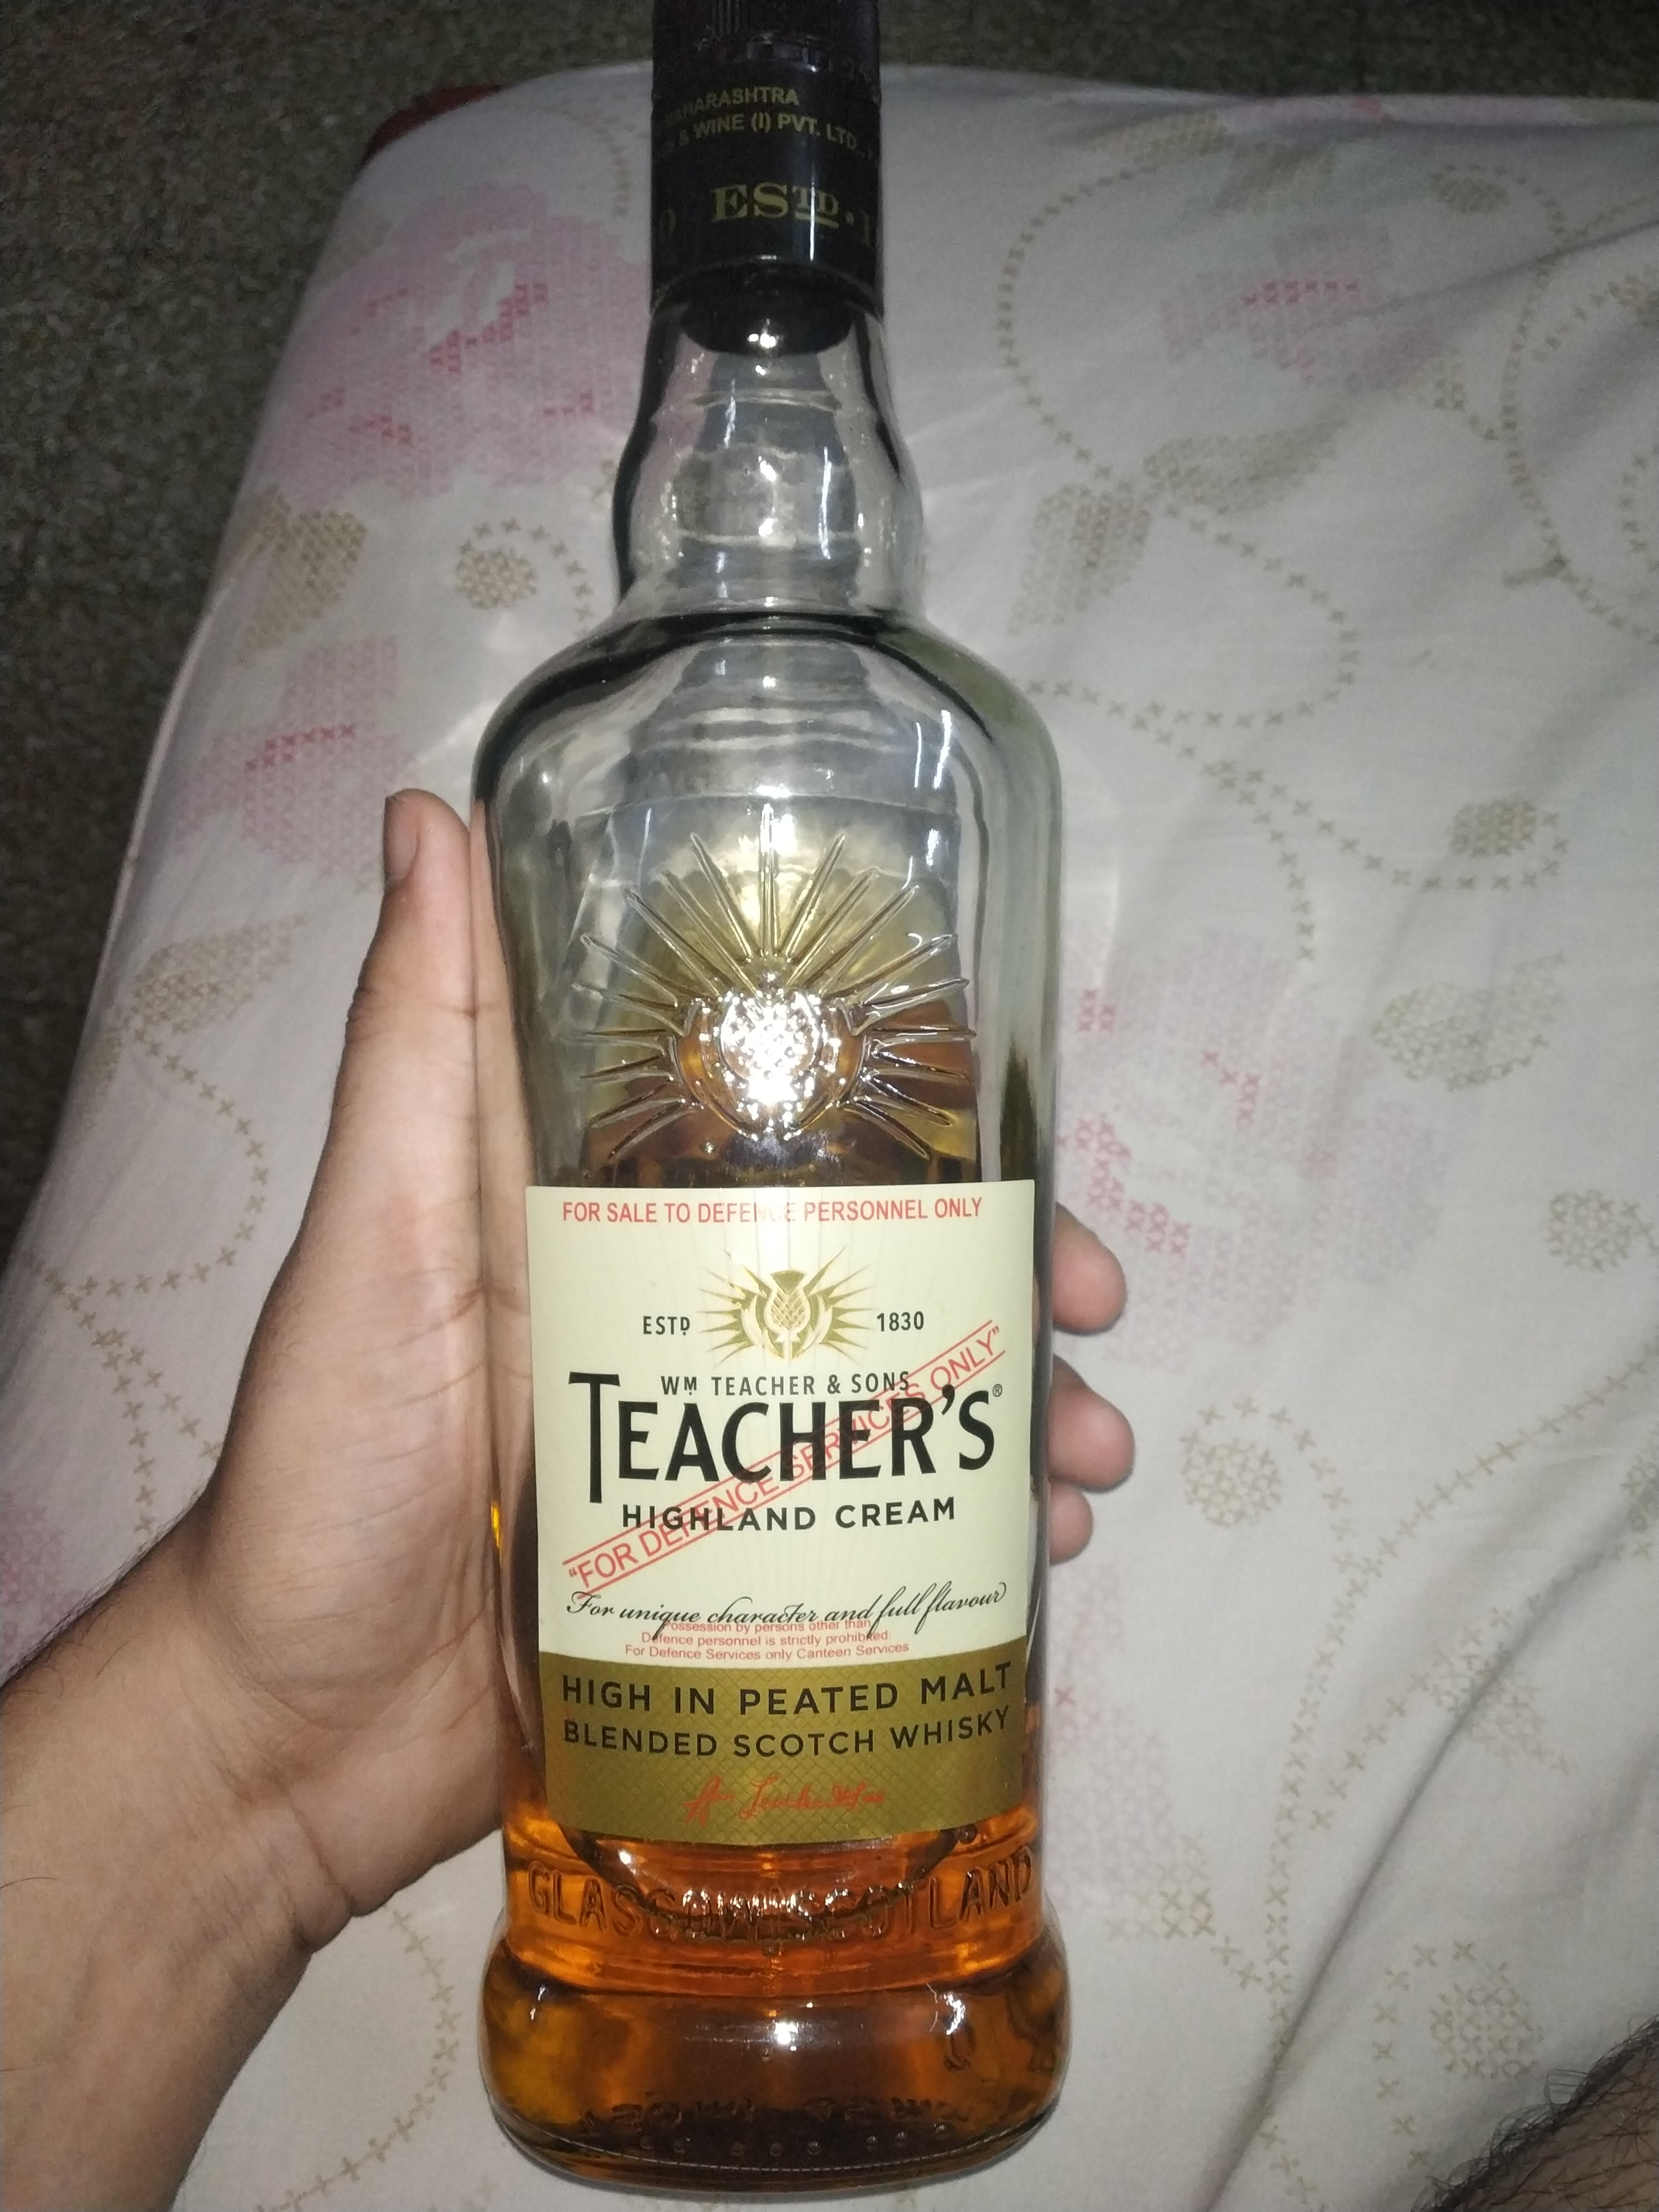glass_bottle: (396, 5, 1124, 2212)
